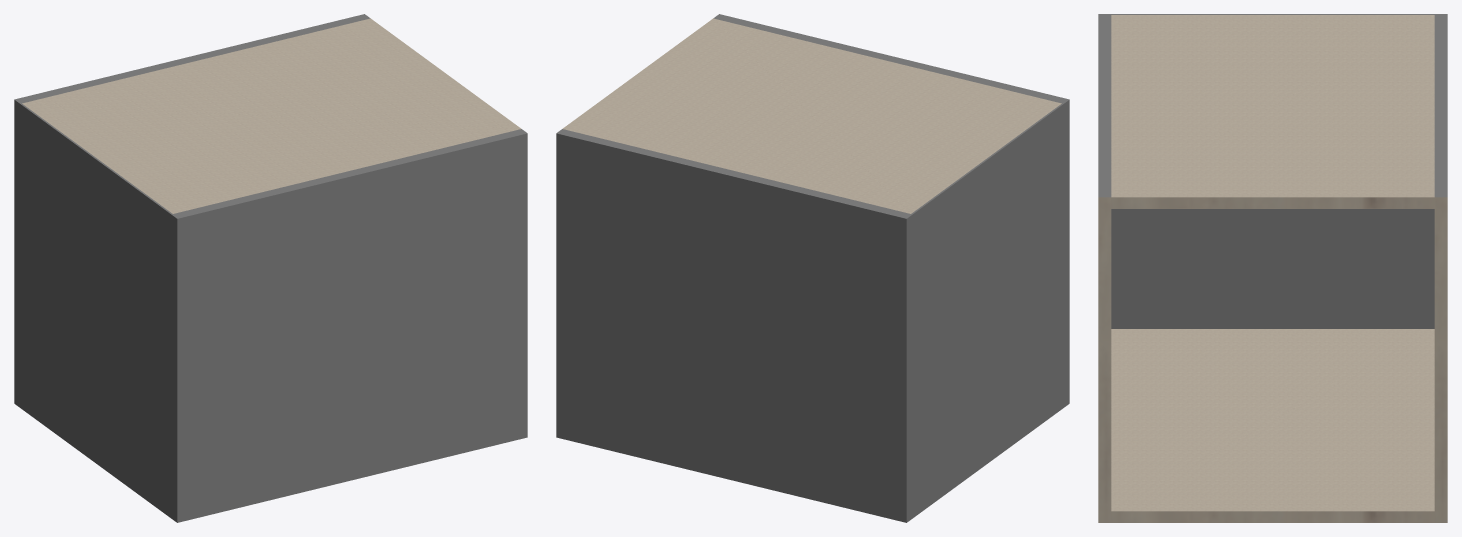
The model's file is demo.glb.
The picture shows the model from 3 angles, left to right: view 1: azimuth 30°, elevation 25°; view 2: azimuth 150°, elevation 25°; view 3: azimuth 270°, elevation 25°; orthographic projection. The views are drawn at different scales.
Visible parts, largest first — view 1: k2 - leva, k1 - gor, k1 - hrbet, k2 - desna; view 2: k2 - desna, k1 - gor, k1 - hrbet, k2 - leva; view 3: k1 - dol, k1 - gor, k1 - hrbet, k2 - leva, k2 - desna.
Boxes of the visible parts, x1=… form: k2 - leva: x1=173, y1=129, x2=527, y2=522; k1 - gor: x1=22, y1=18, x2=521, y2=213; k1 - hrbet: x1=14, y1=99, x2=178, y2=522; k2 - desna: x1=16, y1=14, x2=370, y2=103; k2 - desna: x1=556, y1=129, x2=910, y2=522; k1 - gor: x1=562, y1=18, x2=1061, y2=213; k1 - hrbet: x1=905, y1=99, x2=1069, y2=522; k2 - leva: x1=713, y1=14, x2=1067, y2=103; k1 - dol: x1=1111, y1=329, x2=1434, y2=522; k1 - gor: x1=1111, y1=15, x2=1434, y2=208; k1 - hrbet: x1=1098, y1=14, x2=1447, y2=328; k2 - leva: x1=1098, y1=15, x2=1111, y2=522; k2 - desna: x1=1434, y1=15, x2=1447, y2=522.
Size of the model in its own units: 0.603 by 0.5 by 0.486.
2 materials, 1 textured.
